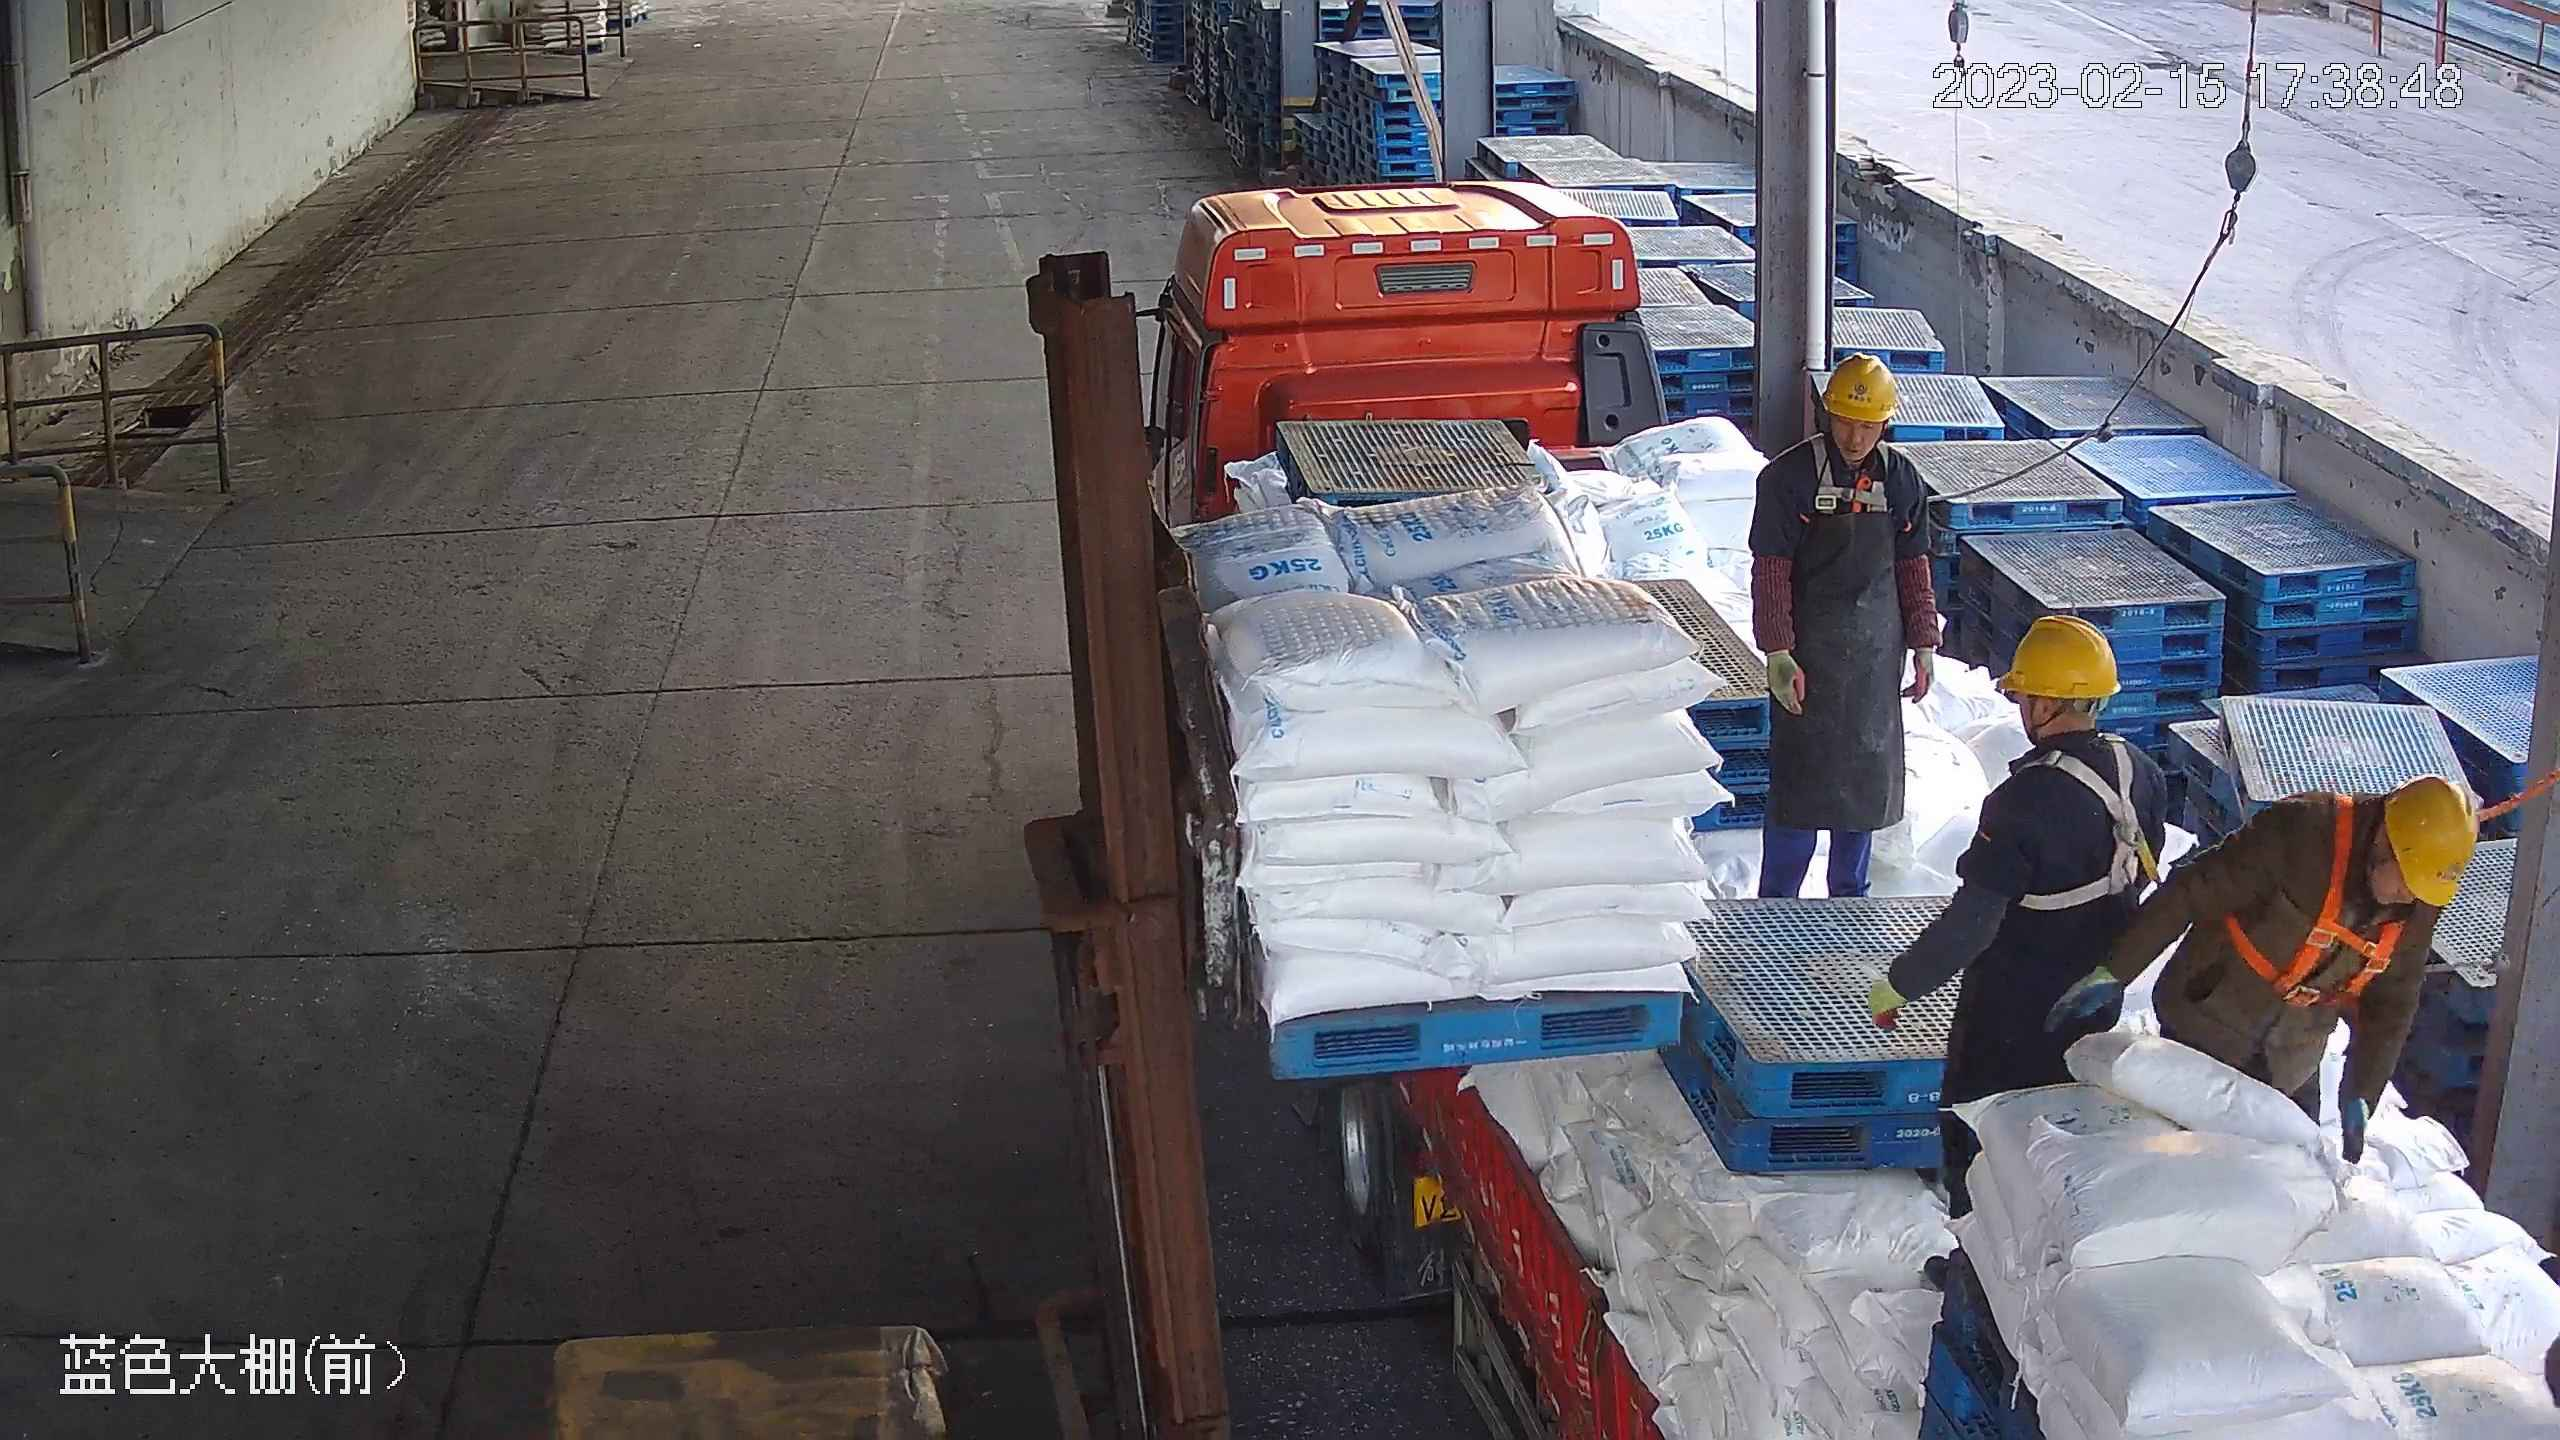belt: (2221, 790, 2406, 1014), (2009, 731, 2162, 911), (1806, 431, 1896, 513)
head: (1977, 613, 2168, 804), (2257, 775, 2479, 938), (1758, 351, 1925, 495)
helmet: (2382, 778, 2479, 909), (1992, 615, 2126, 699), (1817, 351, 1899, 425)
people: (1865, 613, 2168, 1291), (2043, 774, 2481, 1169), (1748, 350, 1943, 896)
truck: (1135, 176, 2560, 1440)
